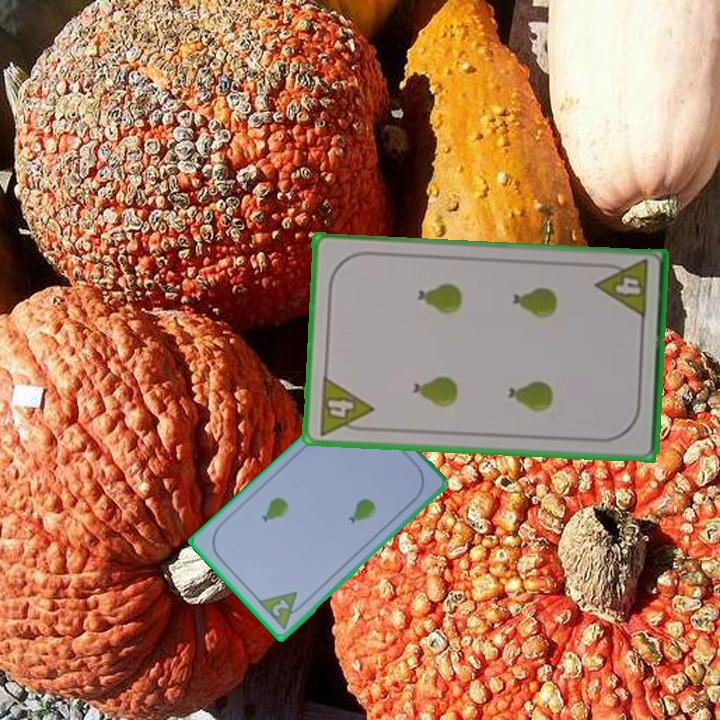2p: (254, 588, 309, 633)
4p: (315, 373, 376, 438), (593, 256, 651, 322)
